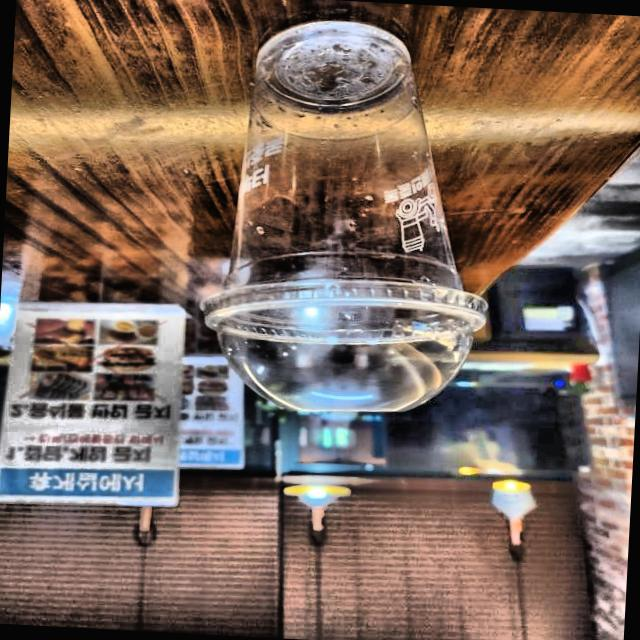plastic cup: (191, 0, 516, 441)
